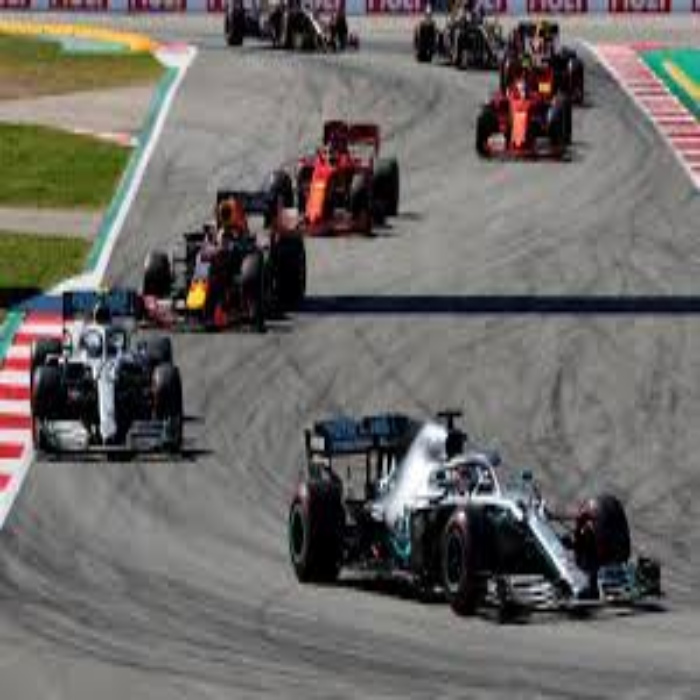f1_car: (277, 381, 674, 630), (26, 282, 194, 465), (130, 183, 323, 331), (256, 109, 420, 249), (465, 71, 585, 172), (494, 11, 595, 81)
